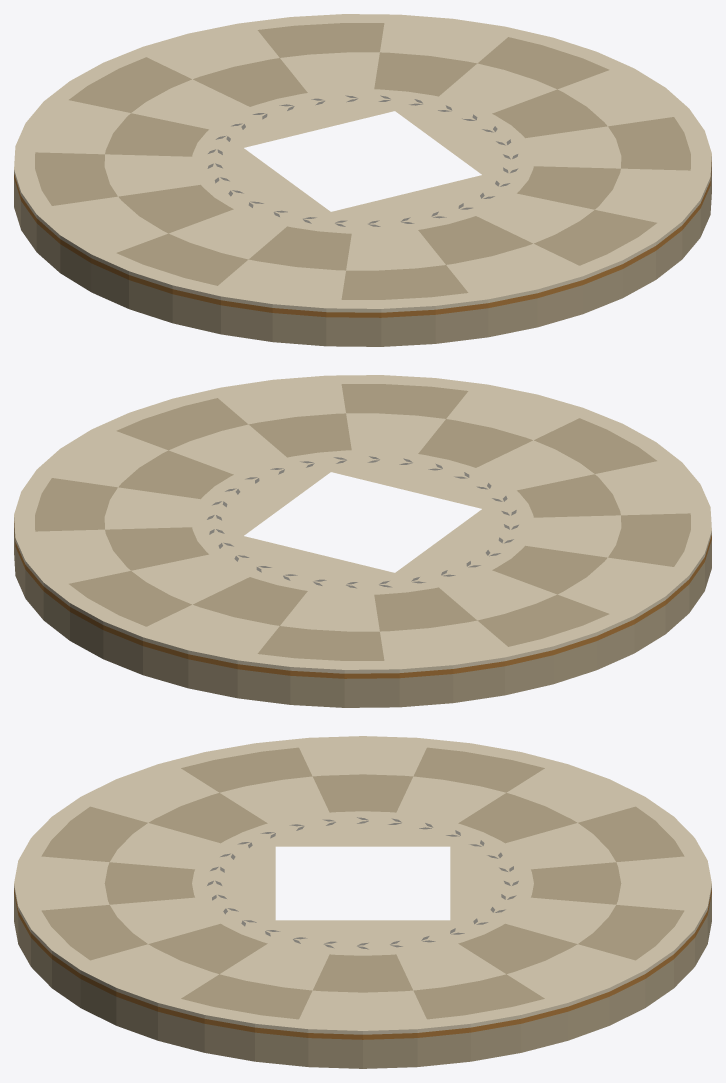
The model's file is SM_ColStage.fbx.
3 views of the same model, one above another, from view 1: azimuth 30°, elevation 25°; view 2: azimuth 150°, elevation 25°; view 3: azimuth 270°, elevation 25° (orthographic).
Visible parts, largest first — view 1: SM_ColStage; view 2: SM_ColStage; view 3: SM_ColStage.
Boxes of the visible parts, left/top/right/bottom form: SM_ColStage: left=14, top=14, right=711, bottom=346; SM_ColStage: left=14, top=375, right=711, bottom=707; SM_ColStage: left=14, top=736, right=711, bottom=1068.
Bounding box in the file's own units: 20 × 20 × 1.21.
